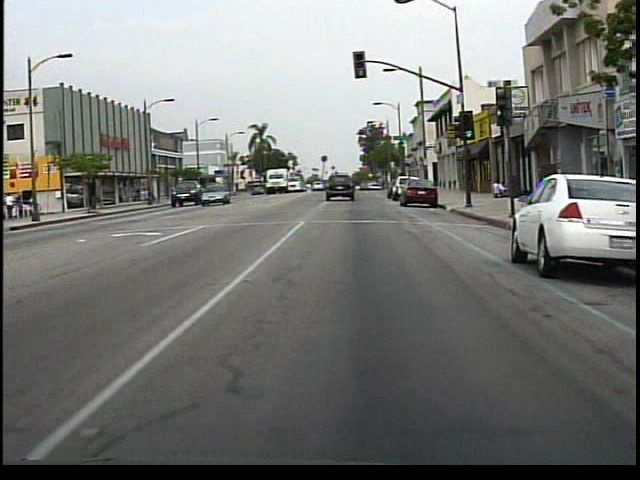person: (5, 188, 23, 220), (486, 176, 503, 201)
